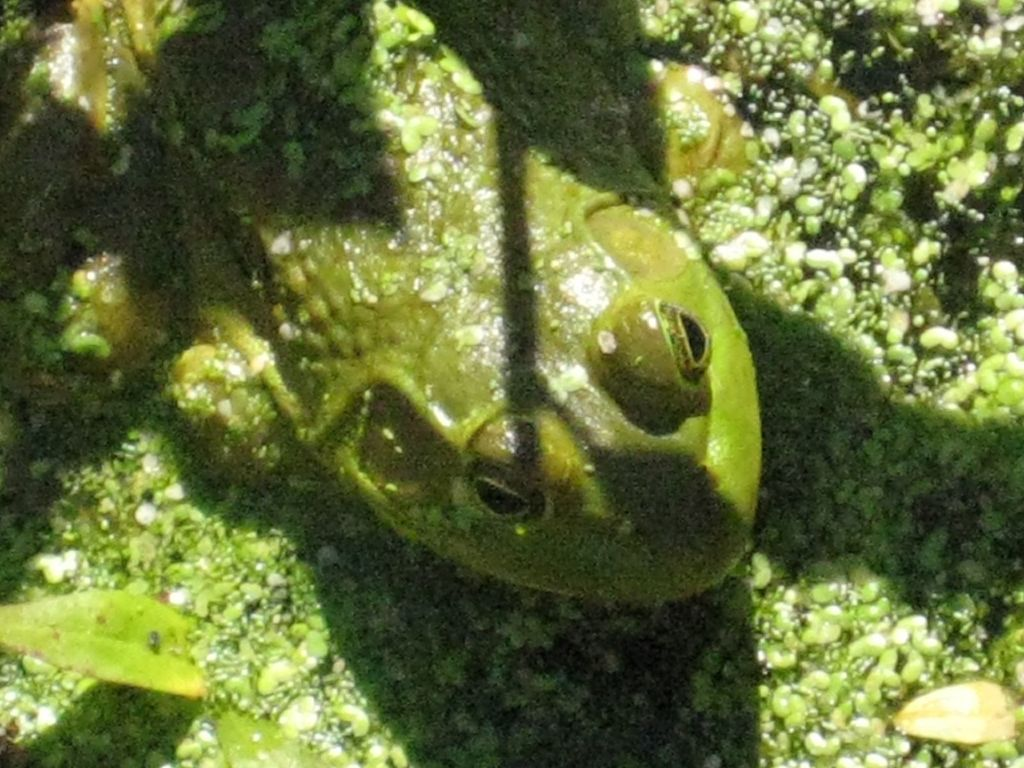Animal: (58, 0, 750, 608)
